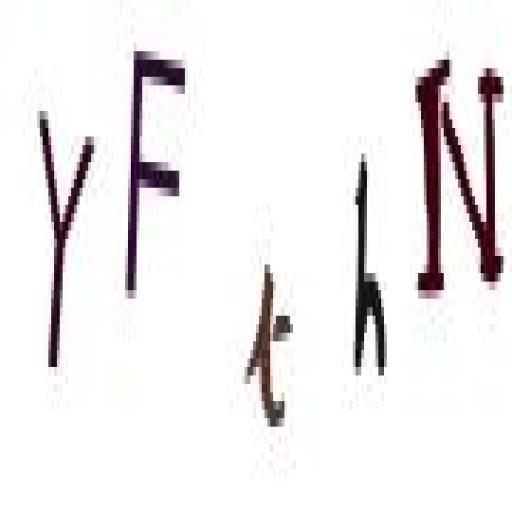F: (122, 34, 188, 322)
N: (410, 54, 507, 321)
Y: (28, 79, 99, 394)
h: (340, 120, 391, 414)
t: (242, 228, 296, 460)
